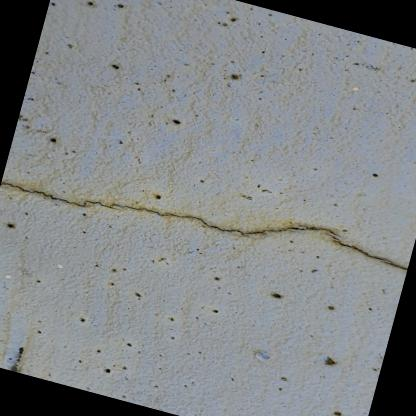crack: (0, 181, 408, 272)
